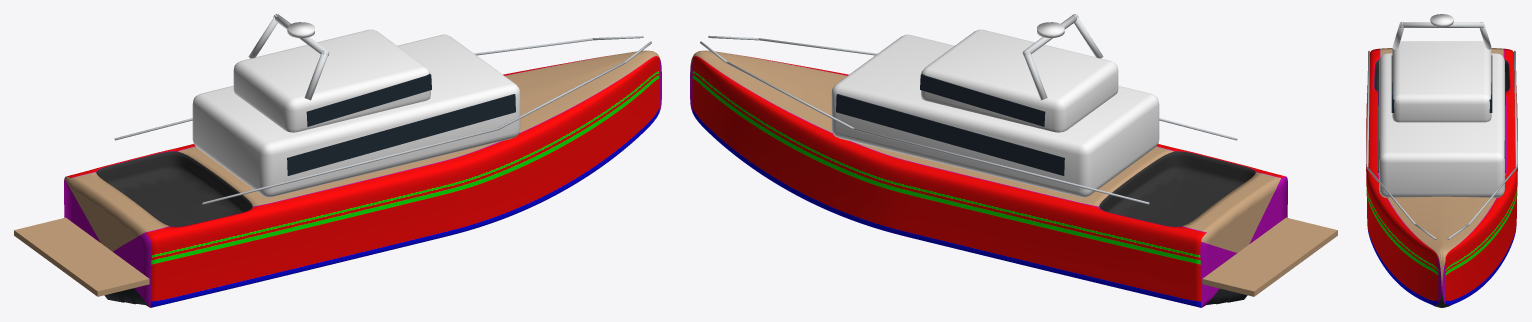
File: Yacht.glb
3 views of the same model, side by side, from view 1: azimuth 30°, elevation 25°; view 2: azimuth 150°, elevation 25°; view 3: azimuth 270°, elevation 25° (orthographic). The views are drawn at different scales.
Visible parts, largest first — view 1: Yacht; view 2: Yacht; view 3: Yacht.
Boxes of the visible parts, bbox=[...] form: Yacht: bbox=[14, 14, 661, 307]; Yacht: bbox=[690, 14, 1337, 307]; Yacht: bbox=[1366, 14, 1517, 307].
Bounding box in the file's own units: 17.54 × 6.21 × 4.58.
9 materials, 1 textured.
